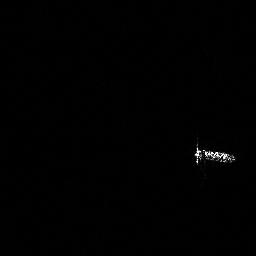ship: (196, 147, 235, 164)
